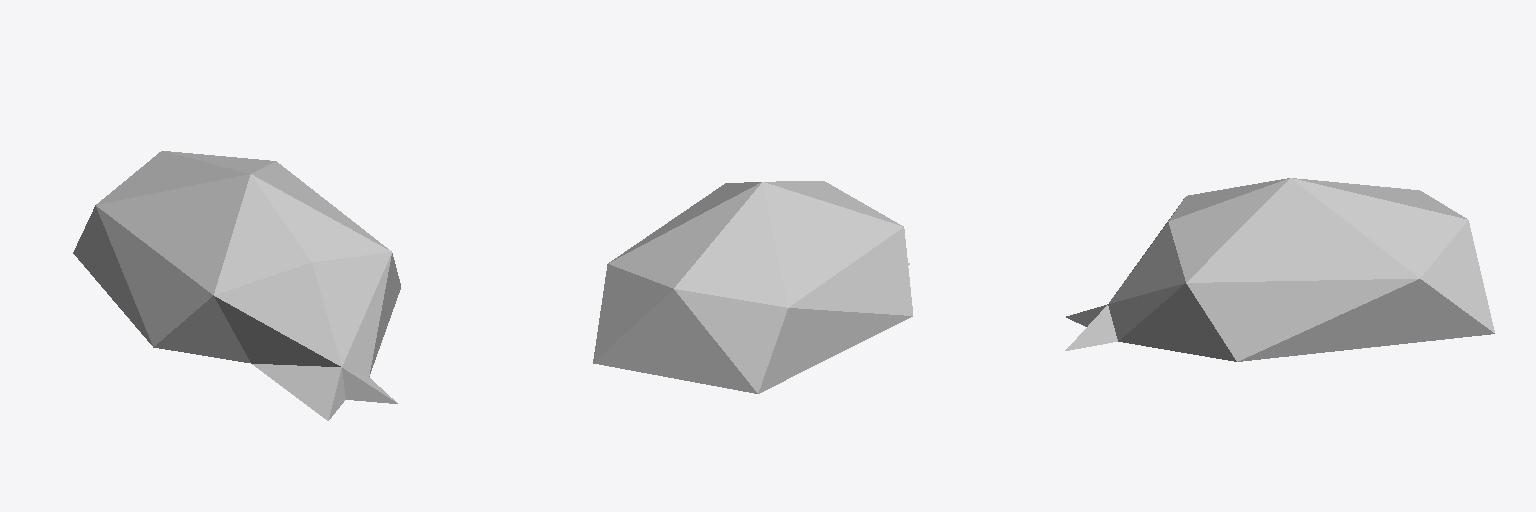
The model's file is Splatterbug_low.obj.
3 views of the same model, side by side, from view 1: azimuth 30°, elevation 25°; view 2: azimuth 150°, elevation 25°; view 3: azimuth 270°, elevation 25° (orthographic).
Size of the model in its own units: 8.44 by 5.08 by 12.69.